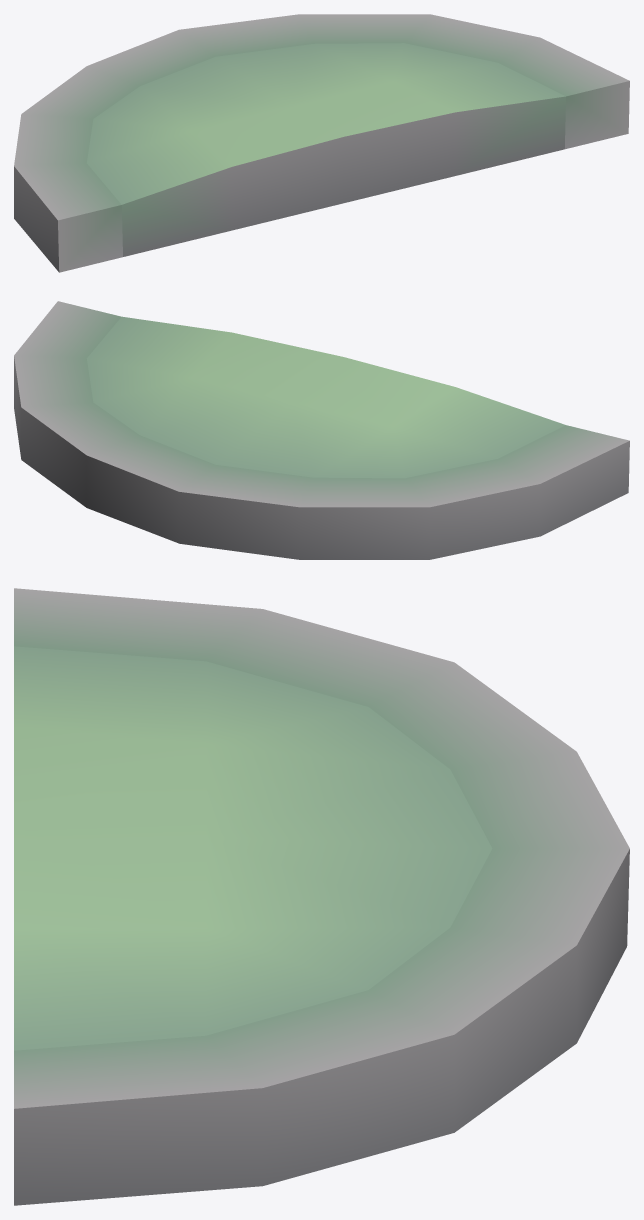
File: Trafficisland_01.glb
3 views of the same model, one above another, from view 1: azimuth 30°, elevation 25°; view 2: azimuth 150°, elevation 25°; view 3: azimuth 270°, elevation 25° (orthographic). The views are drawn at different scales.
Visible parts, largest first — view 1: Trafficisland_01; view 2: Trafficisland_01; view 3: Trafficisland_01.
Part boxes in pixels (bbox=[...]): Trafficisland_01: bbox=[14, 14, 629, 272]; Trafficisland_01: bbox=[14, 301, 629, 559]; Trafficisland_01: bbox=[14, 588, 629, 1205].
Size of the model in its own units: 0.4465 by 0.0496 by 0.2233.
